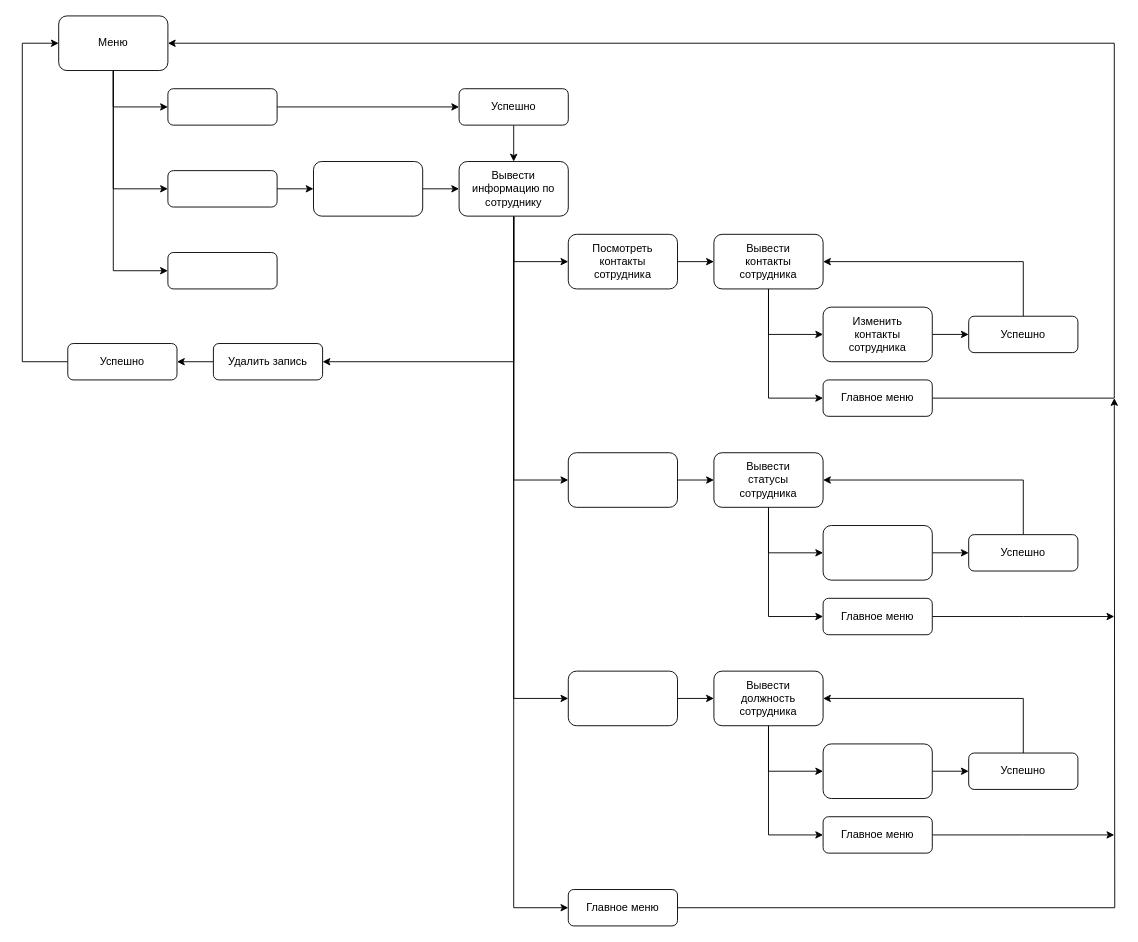
The diagram is 1138 pixels wide and 942 high, and some of its shapes have lost their labels. Each missing label, with the centre of its shape:
"Ввод ключевого слова" belongs at (x=368, y=188).
"Выход" belongs at (x=222, y=270).
"Добавить запись о новой должности" belongs at (x=877, y=771).
"Добавить статус сотруднику" belongs at (x=877, y=552).
"Найти сотрудника" belongs at (x=222, y=188).
"Просмотреть должность сотрудника" belongs at (x=622, y=698).
"Просмотреть статусы сотрудника" belongs at (x=622, y=479).
"Создать запись" belongs at (x=222, y=106).
